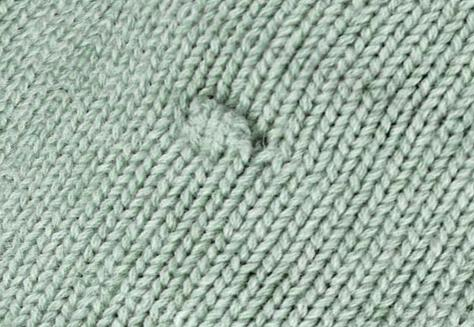knot: (180, 95, 260, 162)
